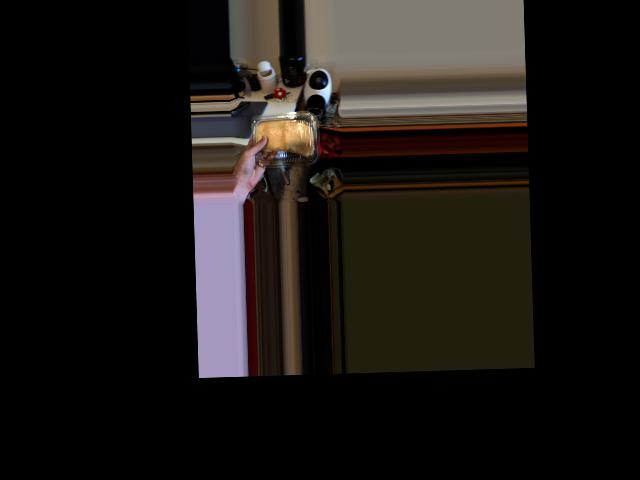cheese: (253, 105, 315, 171)
